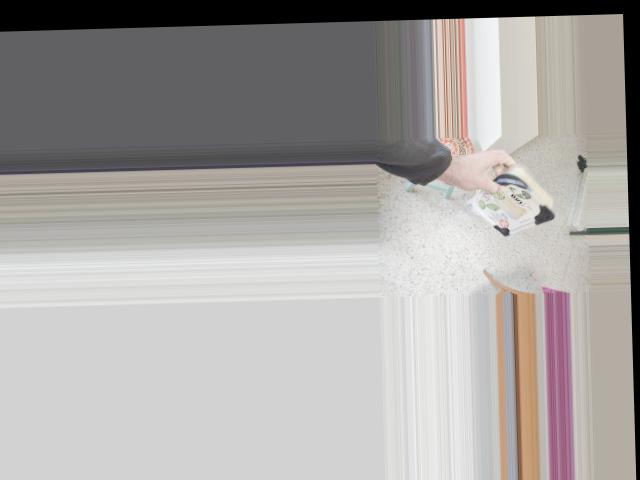cheese: (474, 140, 556, 247)
